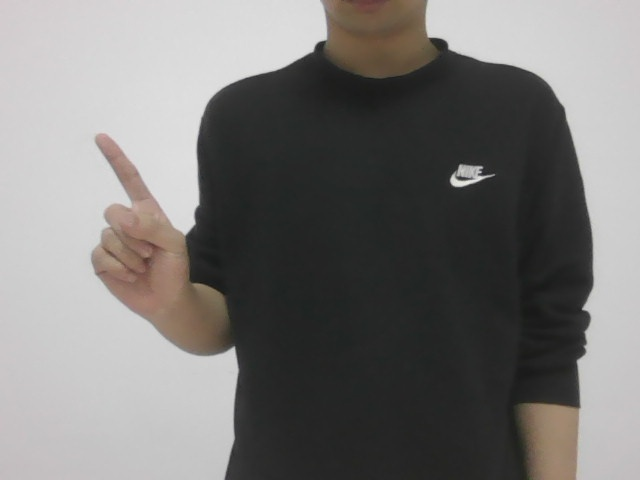what: (82, 126, 194, 327)
